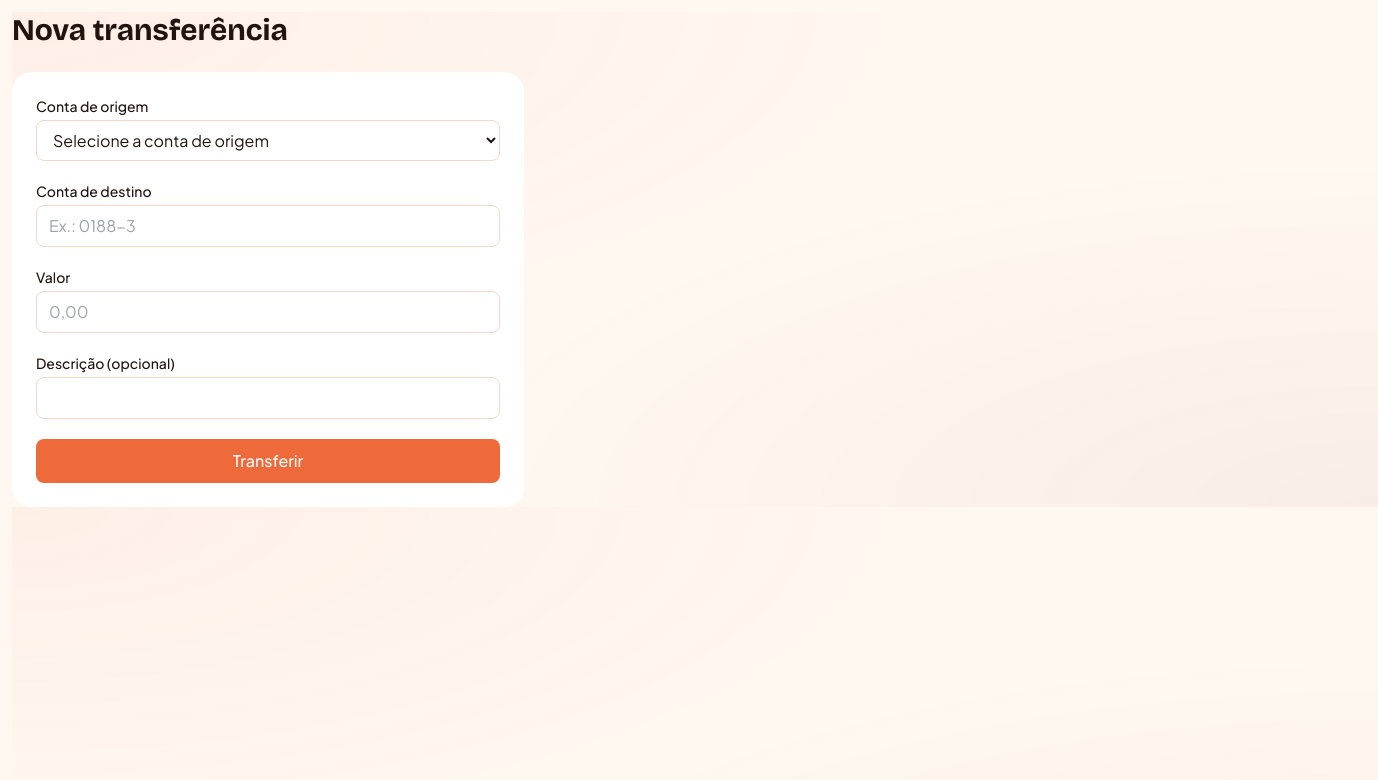
Test: TransferenciaForm › envia transferência e exibe comprovante
Select "Agência 0001 · Conta 0042-0 · R$ 6.250,00" in the dropdown labelled "Conta de origem" at [268, 140], box [36, 120, 500, 161]
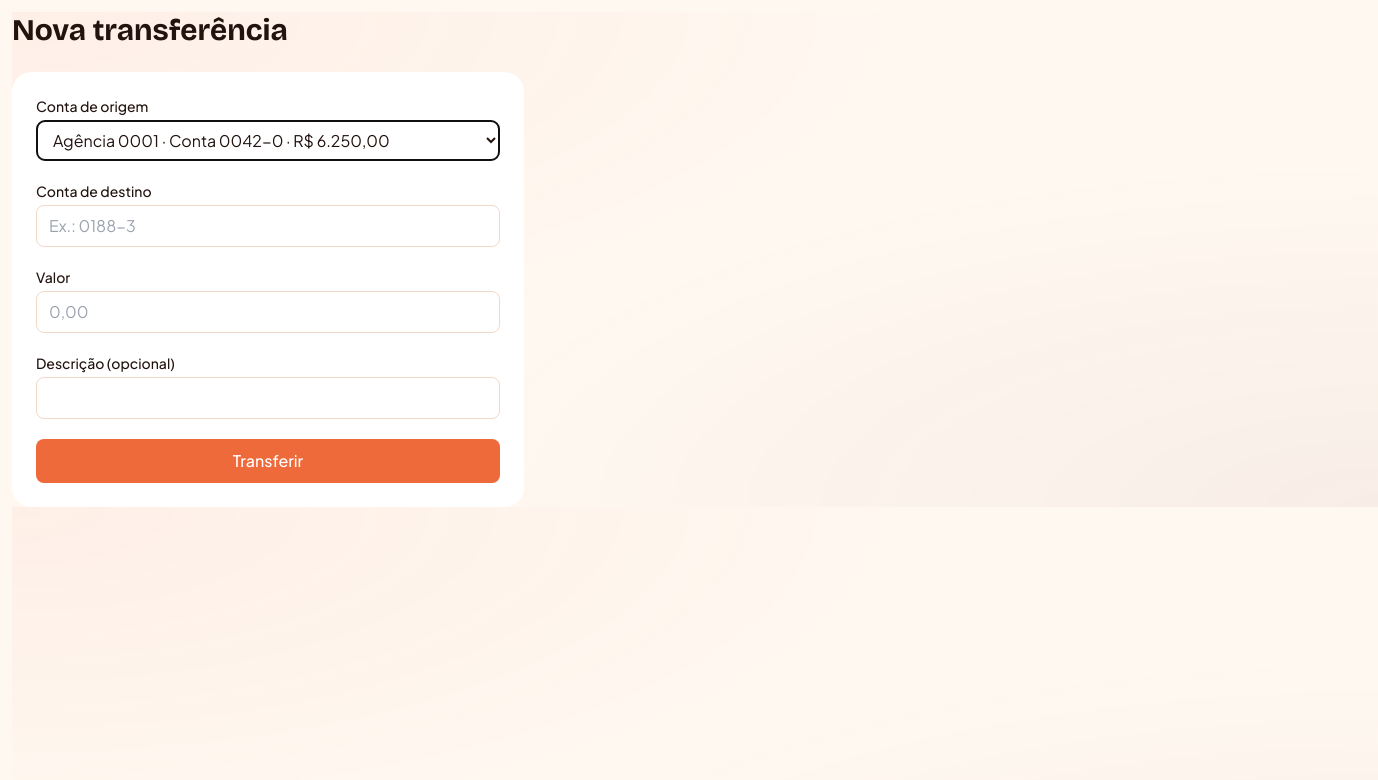
Type "0188-3" into the field labelled "Conta de destino" at [268, 226], box [36, 205, 500, 247]
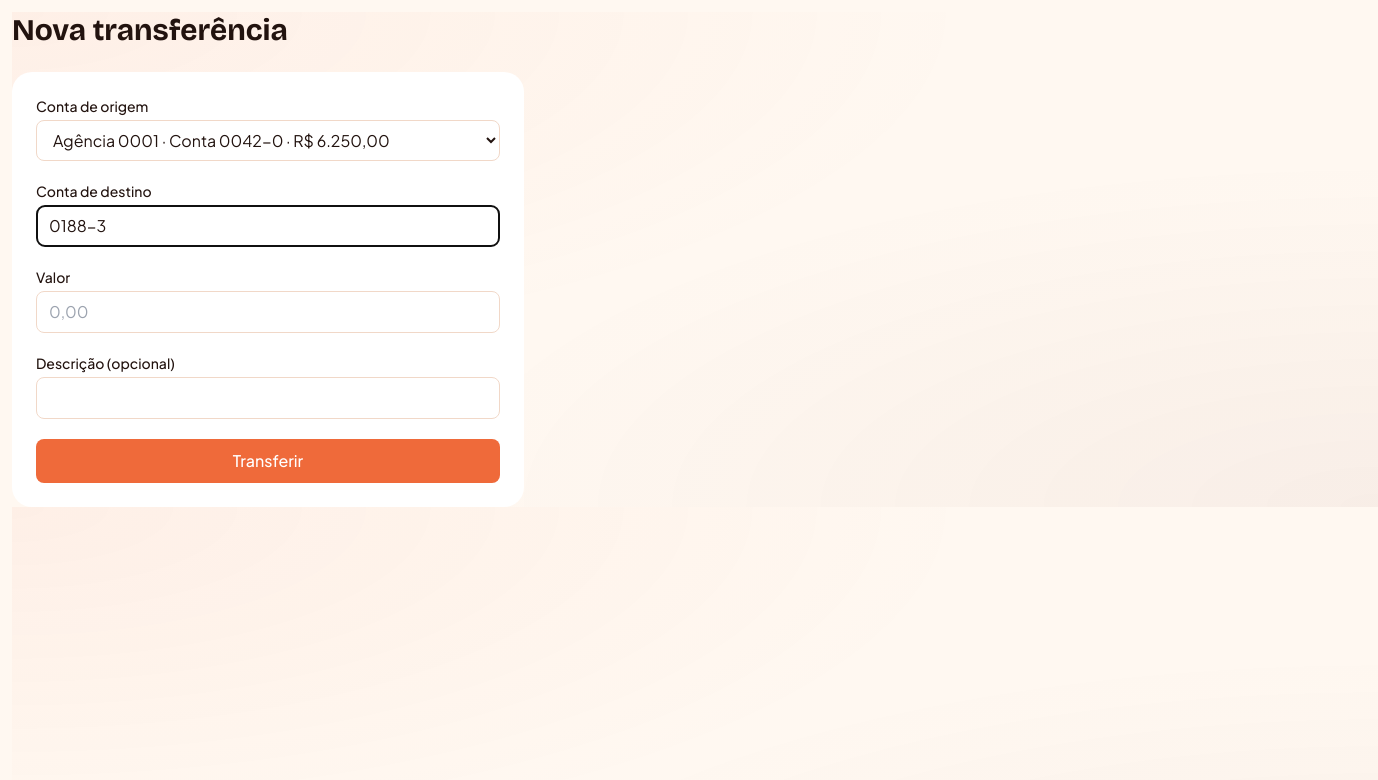
Type "250,00" into the field labelled "Valor" at [268, 312], box [36, 291, 500, 333]
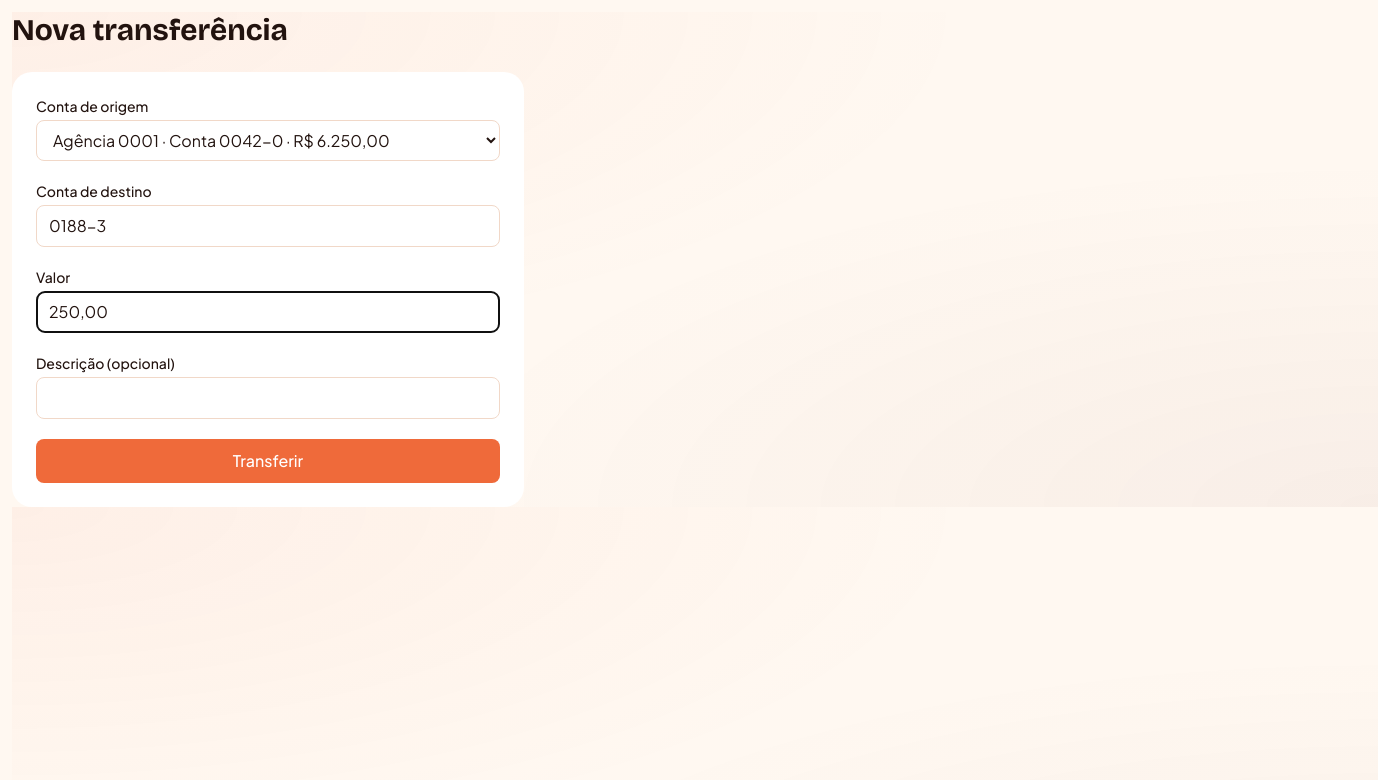
Click the button "Transferir" at [268, 461], box [36, 439, 500, 483]
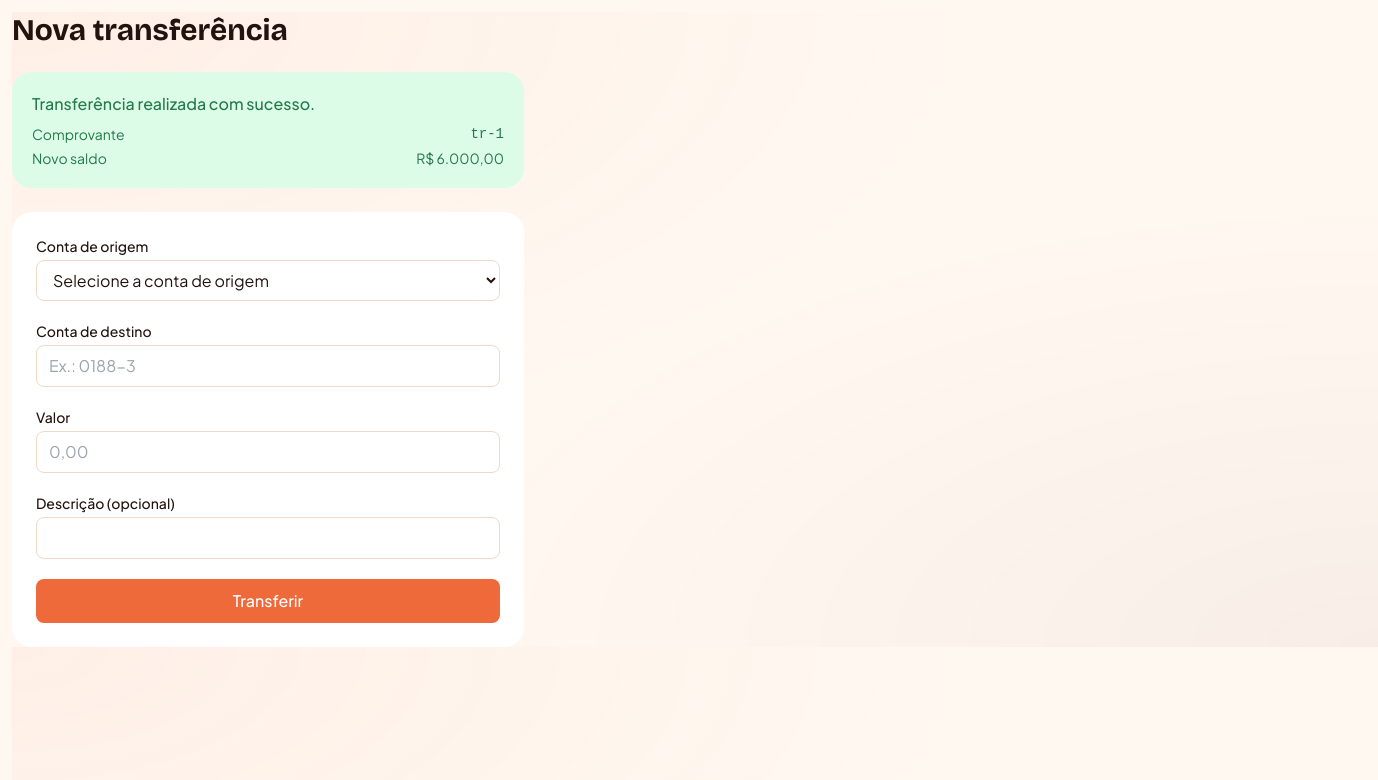
Now the text "Transferência realizada com sucesso." is shown, box [32, 93, 315, 114]
Now the text "tr-1" is shown, box [470, 124, 504, 144]
Now the text "R$ 6.000,00" is shown, box [416, 148, 504, 168]
